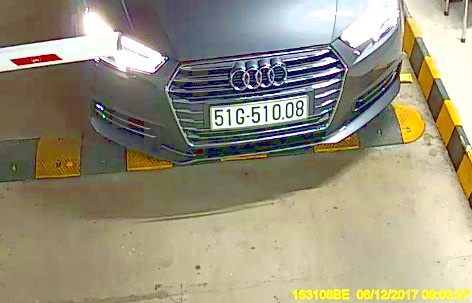plate: (209, 95, 312, 128)
